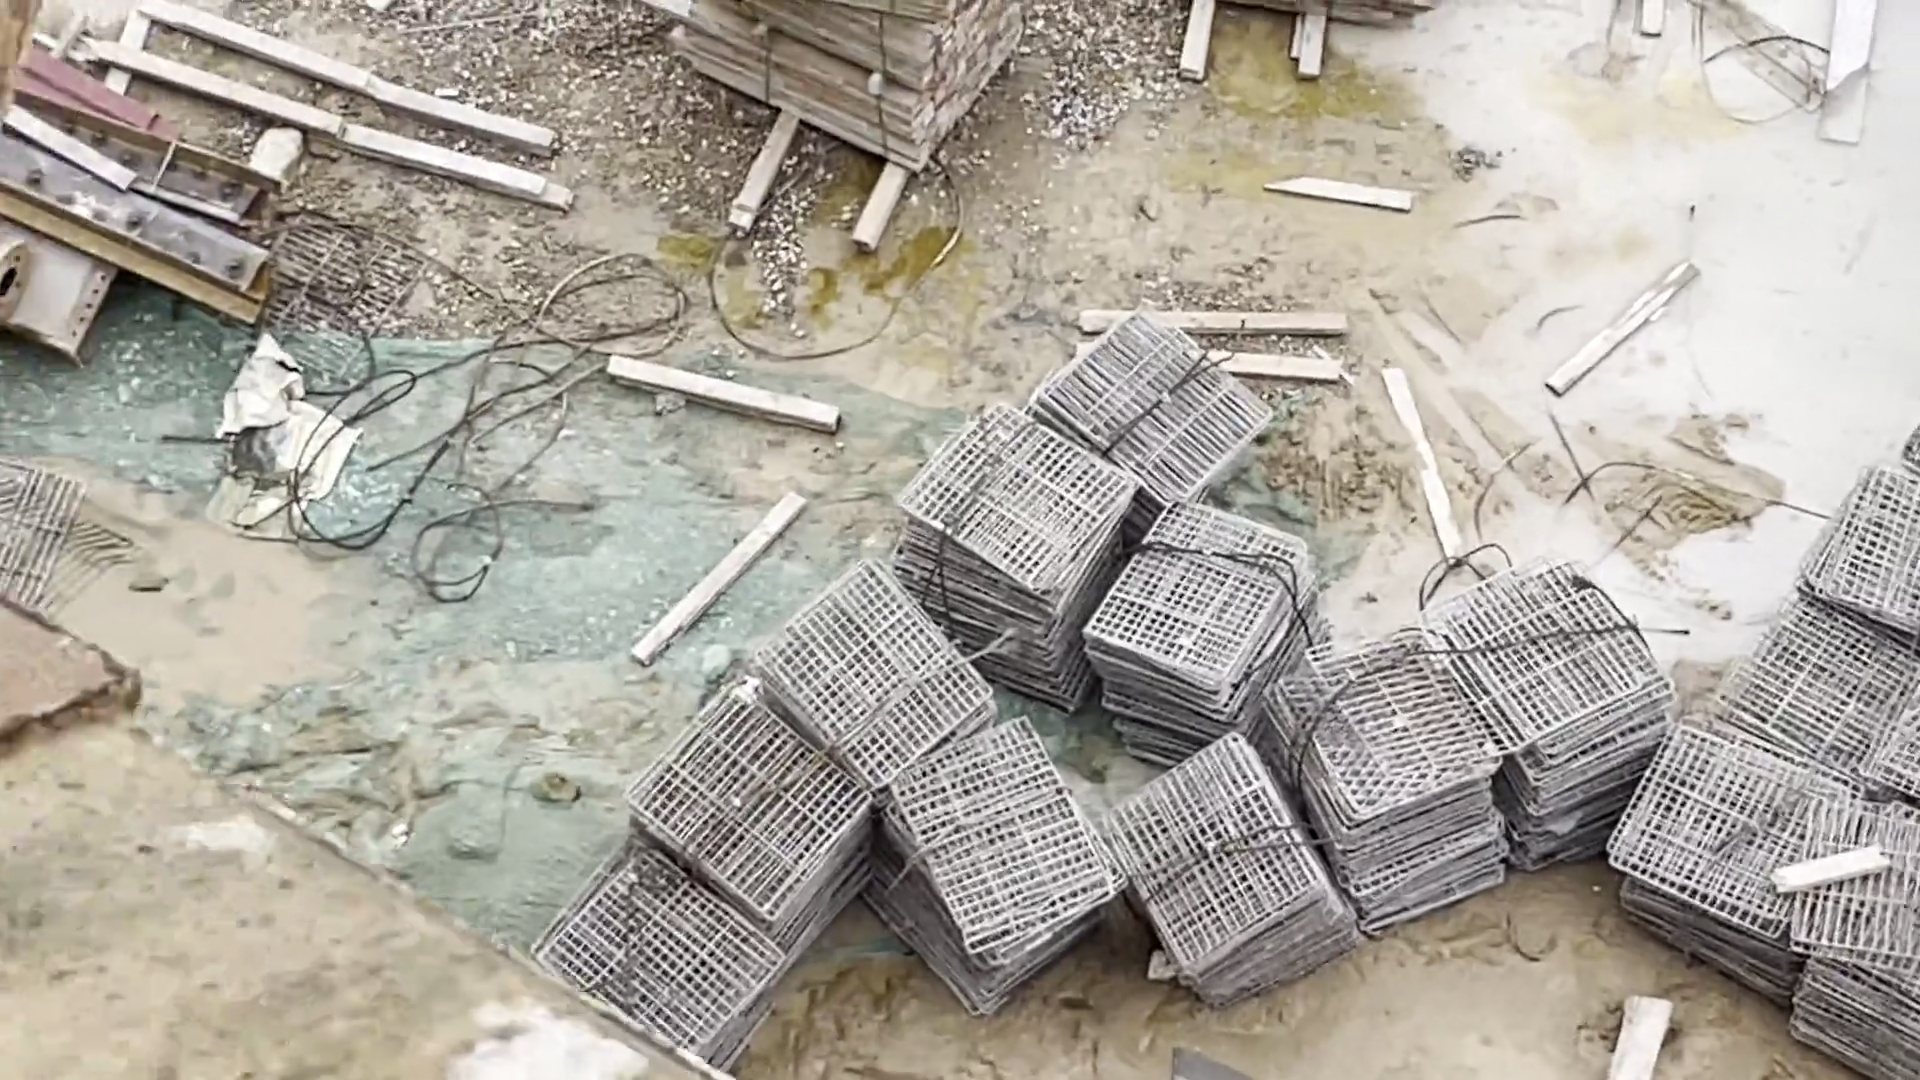wood: (655, 3, 1040, 167)
